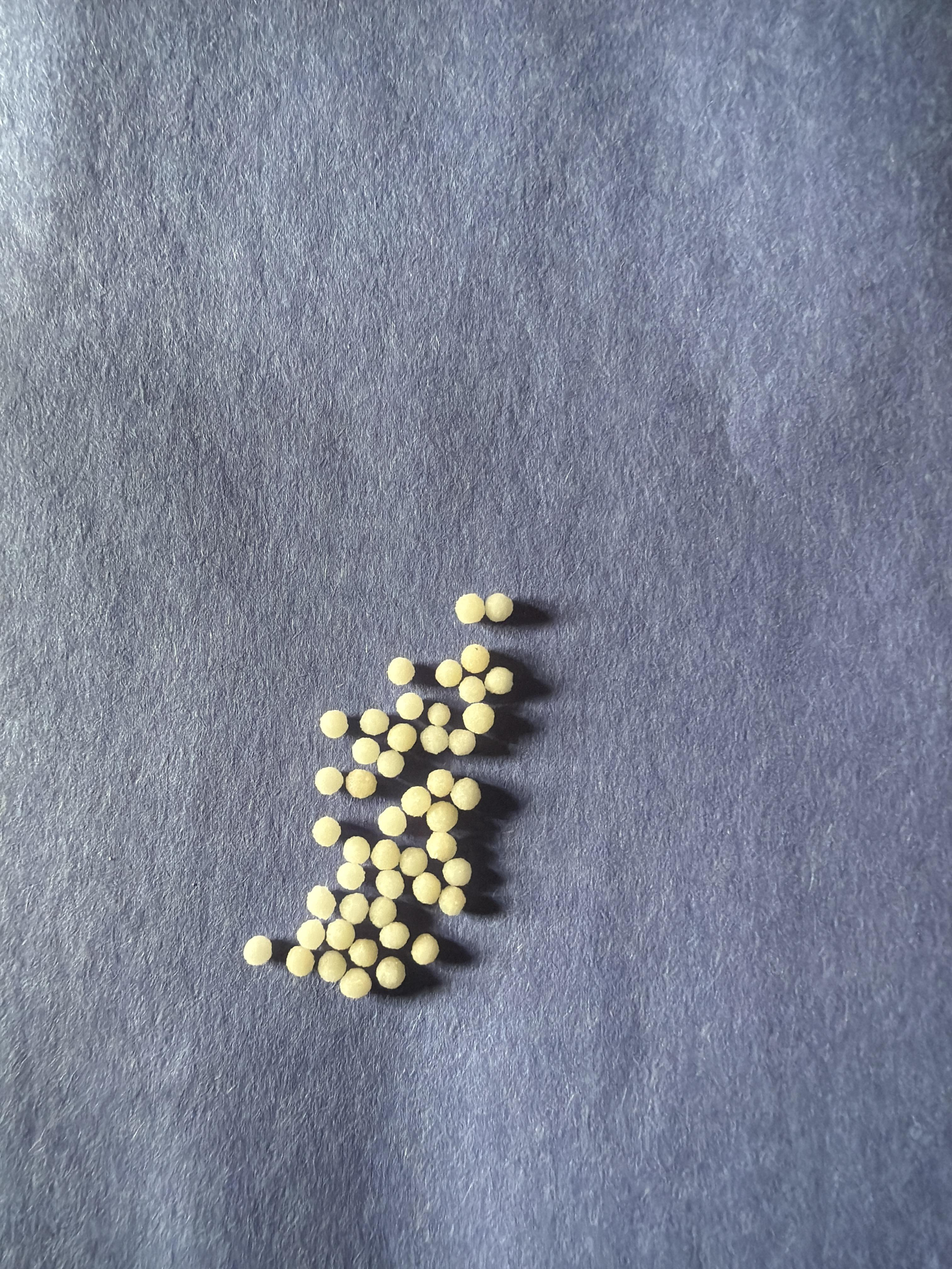pill: (306, 885, 336, 920), (463, 702, 495, 734), (450, 777, 481, 810), (339, 968, 371, 999), (426, 801, 458, 832), (345, 768, 377, 799), (412, 872, 442, 905), (376, 956, 405, 990), (401, 786, 432, 817), (339, 893, 369, 925), (317, 951, 347, 982), (370, 839, 400, 870), (377, 805, 406, 837), (326, 918, 354, 951), (460, 644, 490, 674), (312, 816, 341, 847), (388, 722, 417, 753), (455, 593, 484, 624), (285, 946, 314, 977), (484, 592, 513, 623), (420, 724, 449, 755), (378, 921, 409, 950), (411, 933, 439, 965), (243, 936, 272, 966), (427, 832, 456, 862), (375, 870, 404, 900), (443, 858, 472, 887), (348, 938, 377, 967), (297, 919, 324, 950), (369, 897, 396, 928), (319, 710, 348, 738), (484, 667, 513, 695), (427, 769, 455, 798), (360, 708, 389, 736), (352, 736, 380, 765), (377, 749, 405, 778), (438, 885, 465, 915), (400, 847, 427, 877), (387, 657, 415, 685), (337, 862, 365, 890), (435, 659, 462, 688), (343, 837, 371, 864), (395, 693, 423, 720), (315, 768, 343, 795), (459, 675, 485, 704), (449, 729, 475, 756), (427, 702, 450, 727)
